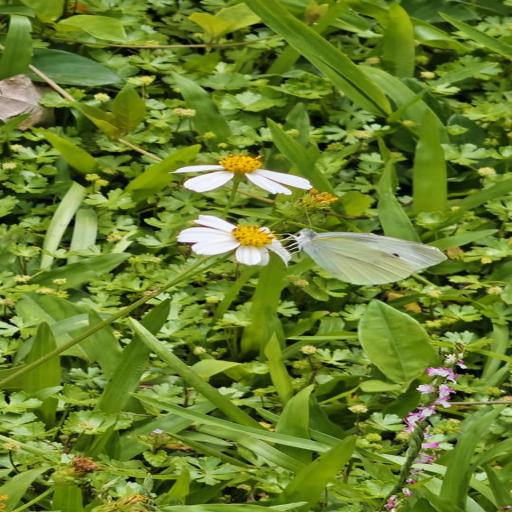Bidens: (166, 203, 302, 275), (164, 149, 325, 197)
